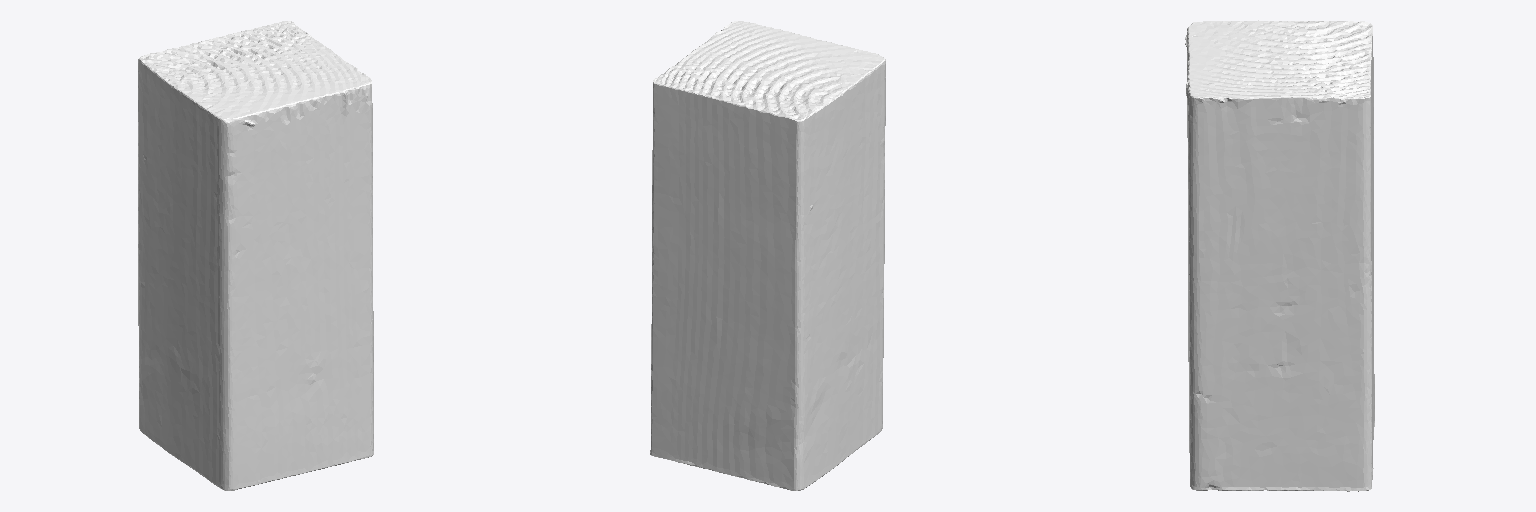
robot.urdf — large_clamp:
<robot name="large_clamp">
	<link name="base_link">
		<visual>
			<origin xyz="0.0023853062583482332 0.021571805079263193 -0.017436900351502183" rpy="0.0 0.0 0.0" />
			<geometry>
				<mesh filename="051_large_clamp/google_16k/textured.obj" scale="1 1 1" />
			</geometry>
			<material name="texture">
				<color rgba="1.0 1.0 1.0 1.0" />
			</material>
		</visual>
		<collision>
			<origin xyz="0.0023853062583482332 0.021571805079263193 -0.017436900351502183" rpy="0.0 0.0 0.0" />
			<geometry>
				<mesh filename="051_large_clamp/google_16k/textured_vhacd.obj" scale="1 1 1" />
			</geometry>
		</collision>
		<inertial>
			<mass value="0.125" />
			<inertia ixx="1e-3" ixy="0.0" ixz="0.0" iyy="1e-3" iyz="0.0" izz="1e-3" />
		</inertial>
	</link>
</robot>

--- Facts derived from the render (not from the file) ---
Views: 3 orthographic renders of the robot side by side, from view 1: azimuth 30°, elevation 25°; view 2: azimuth 150°, elevation 25°; view 3: azimuth 270°, elevation 25°.
Model large_clamp with 1 links and 0 joints (none), rooted at base_link, posed every joint at zero.
Links seen in each view (by area): view 1: base_link; view 2: base_link; view 3: base_link.
Link boxes in pixels (bbox=[...]): base_link: bbox=[138, 21, 373, 490]; base_link: bbox=[650, 21, 885, 490]; base_link: bbox=[1185, 20, 1374, 491].
Size in the robot's own frame: 0.0906 by 0.0899 by 0.206 metres.
1 mesh visuals loaded from 1 distinct referenced files (1 OBJ).